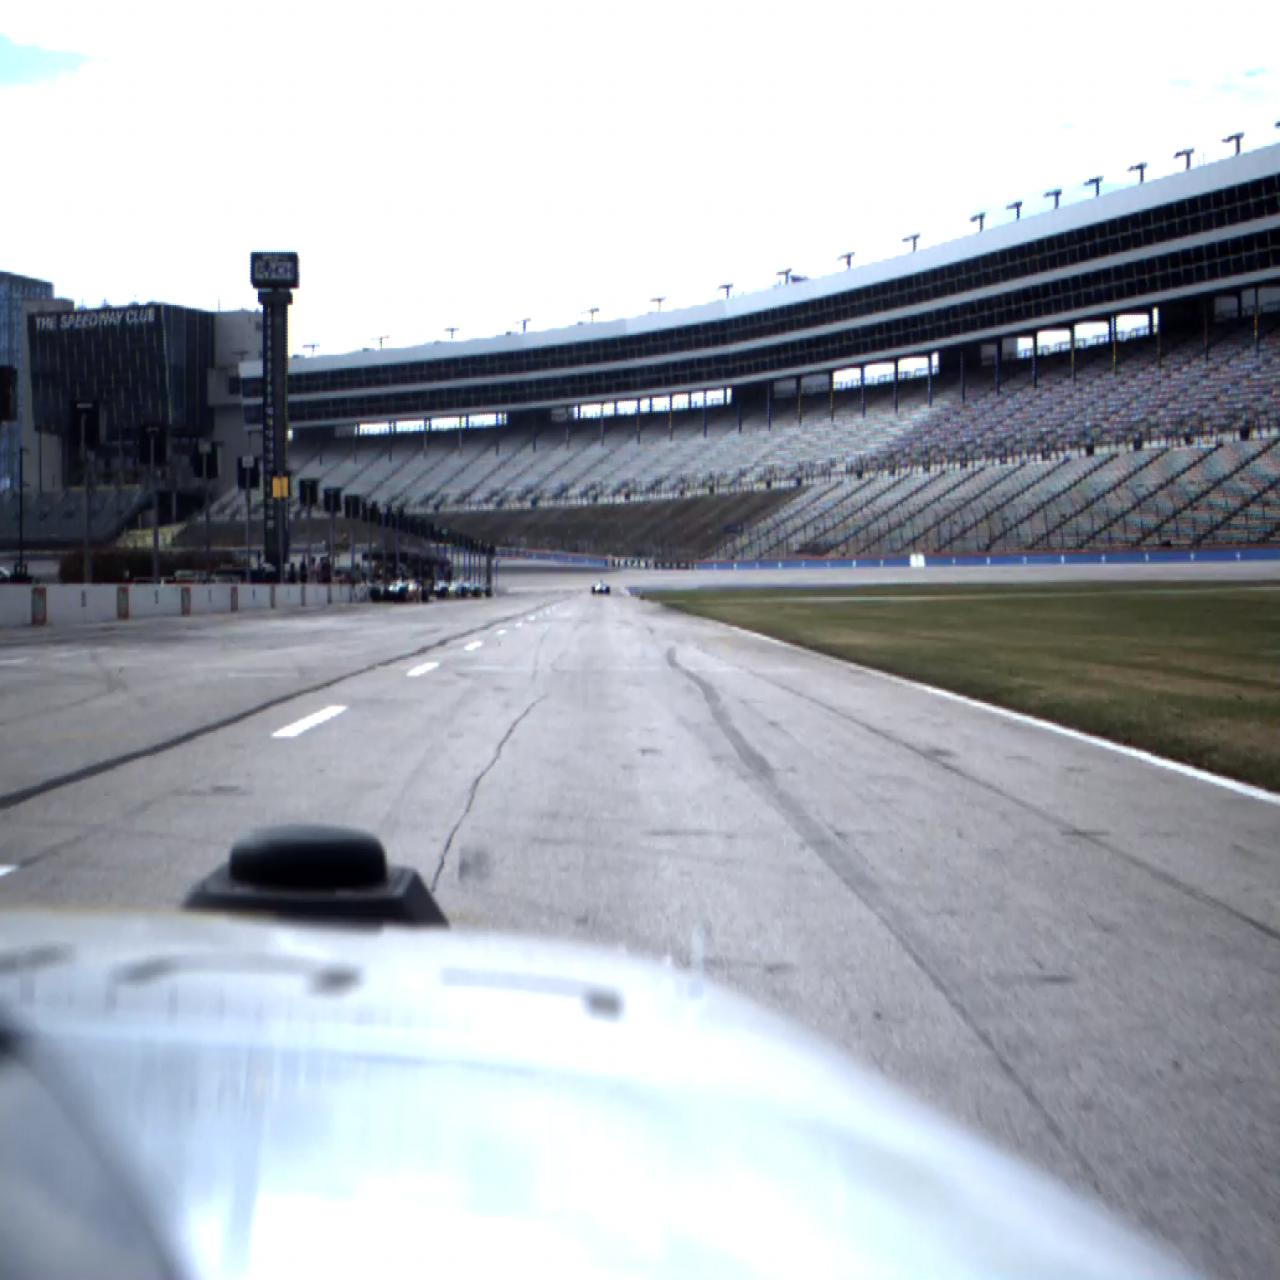AV: (370, 572, 429, 604), (591, 580, 611, 595)
Wheel: (400, 586, 409, 602), (372, 587, 380, 602), (441, 586, 448, 599), (423, 586, 429, 601), (472, 587, 478, 599), (462, 586, 467, 598), (591, 586, 595, 595), (485, 587, 490, 597), (606, 586, 610, 594)
